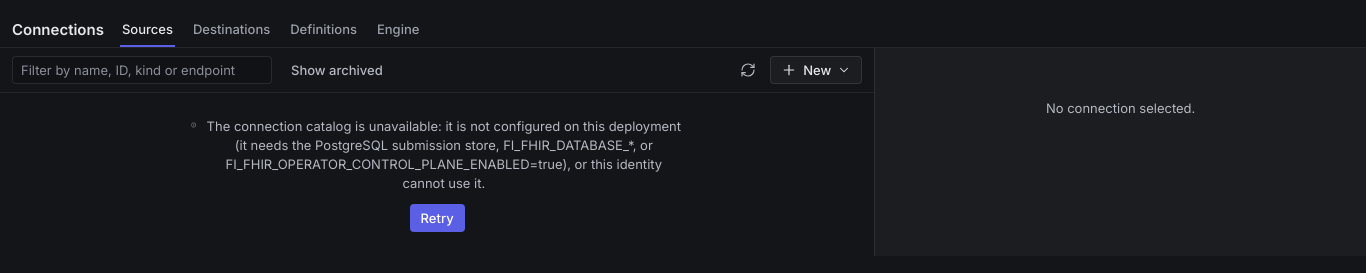
Test: Connections — honest states › keeps querying when capabilities are unknown, and shows a failed read inline with Retry
expect the message shows "connection catalog is unavailable": met, box [207,118,681,190]
Click the button "Retry". click: (437, 218)
box: [410,204,465,232]
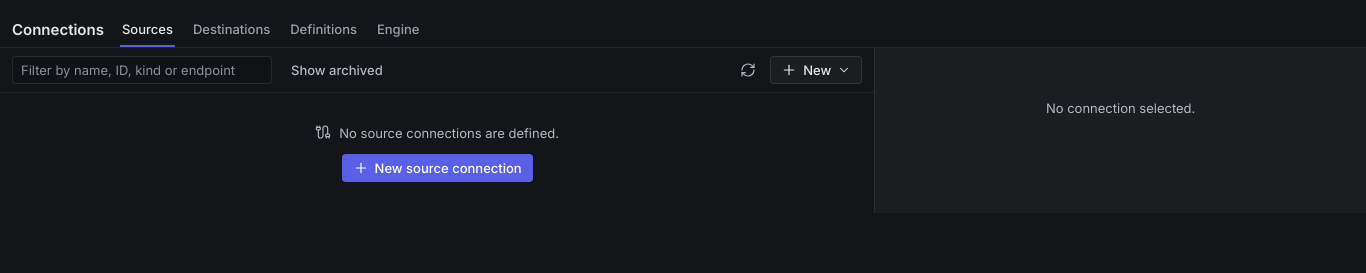
expect the text "No source connections are defined." is shown: met, box [339,124,559,142]
